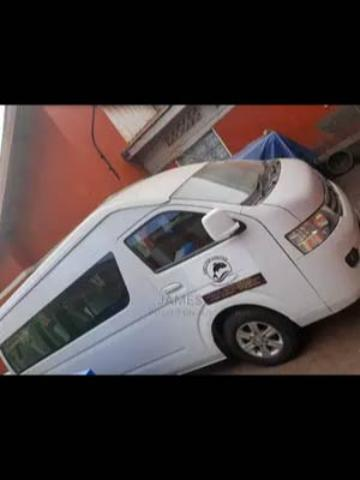van: (0, 155, 355, 368)
